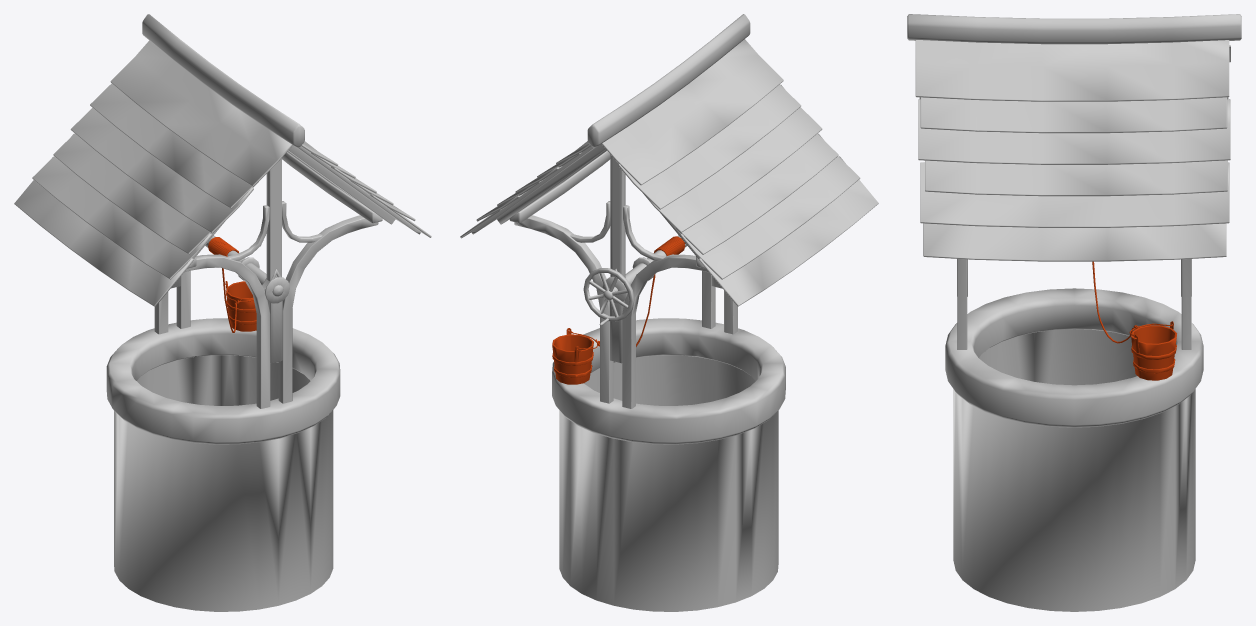
File: PosoAgua.obj
3 views of the same model, side by side, from view 1: azimuth 30°, elevation 25°; view 2: azimuth 150°, elevation 25°; view 3: azimuth 270°, elevation 25° (orthographic). The views are drawn at different scales.
Parts seen in each view (by area): view 1: Well_Model; view 2: Well_Model; view 3: Well_Model.
Part boxes in pixels (x1=…): Well_Model: x1=14, y1=14, x2=431, y2=611; Well_Model: x1=460, y1=14, x2=878, y2=611; Well_Model: x1=907, y1=14, x2=1241, y2=611.
Size of the model in its own units: 3.77 by 6.41 by 3.55.
